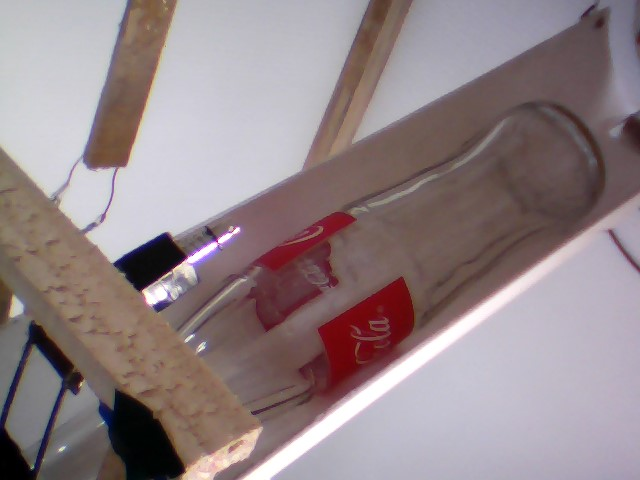vidrio: (171, 92, 613, 424)
